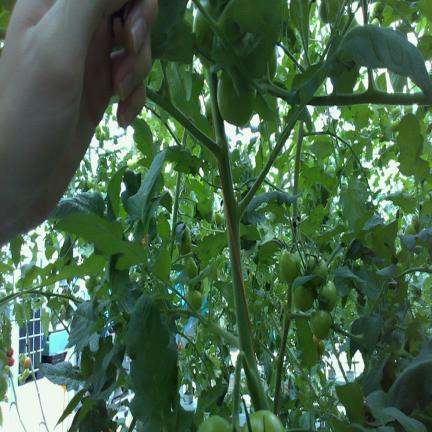6kp_peduncle: (216, 216, 265, 417)
6kp_petiole: (221, 160, 271, 261), (184, 112, 233, 191), (213, 300, 259, 376), (283, 297, 311, 335), (263, 342, 286, 385), (297, 121, 323, 150)
MainStem: (206, 68, 270, 411), (273, 284, 292, 415), (293, 120, 303, 195), (171, 172, 181, 237)
tomato: (217, 71, 255, 127), (242, 410, 285, 431), (279, 250, 298, 284), (310, 310, 331, 340), (308, 256, 327, 286), (197, 415, 232, 431), (293, 286, 315, 311), (320, 281, 337, 311), (185, 287, 202, 310), (176, 229, 191, 255), (184, 256, 198, 278), (268, 46, 277, 80), (389, 118, 400, 132), (6, 349, 14, 366), (317, 340, 325, 356), (23, 357, 31, 368), (8, 356, 14, 366)
